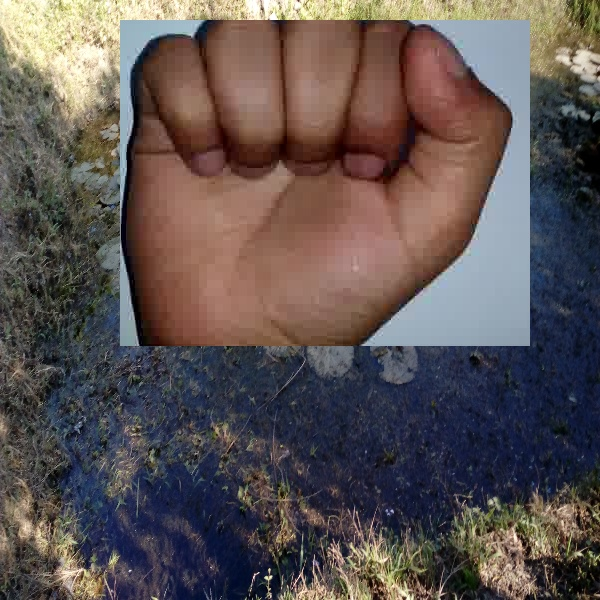A: (120, 20, 530, 346)
